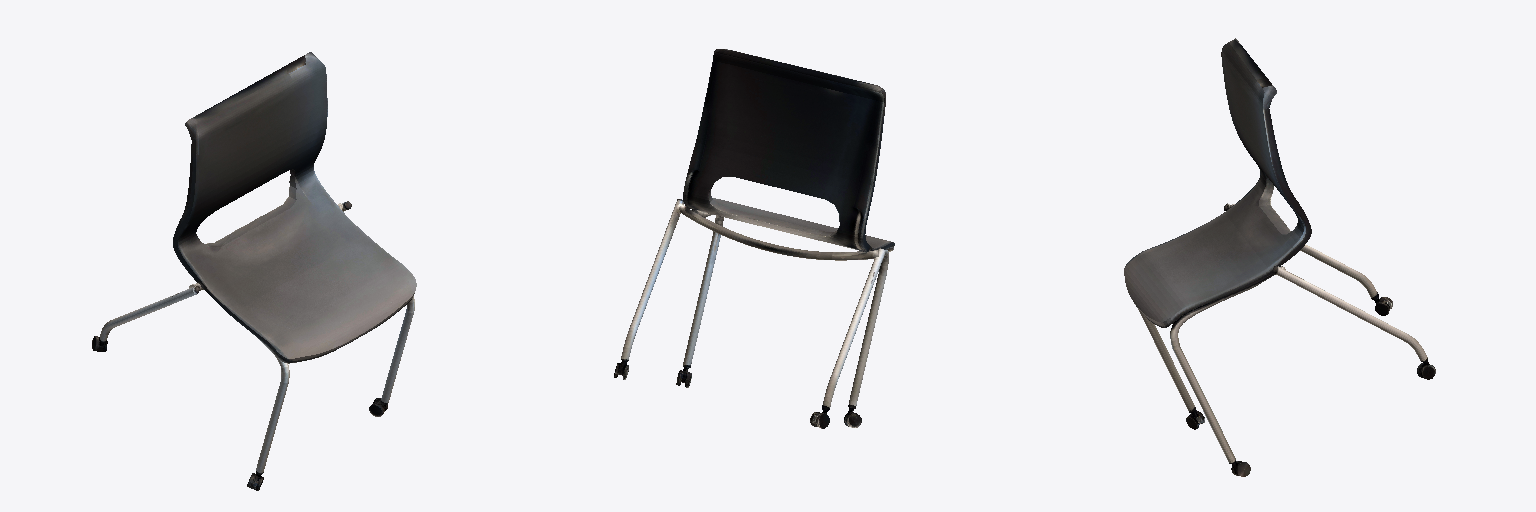
3 views of the same model, side by side, from view 1: azimuth 30°, elevation 25°; view 2: azimuth 150°, elevation 25°; view 3: azimuth 270°, elevation 25° (orthographic).
Size of the model in its own units: 3.21 by 5.33 by 3.9.
Materials: 1 (1 with a texture image).